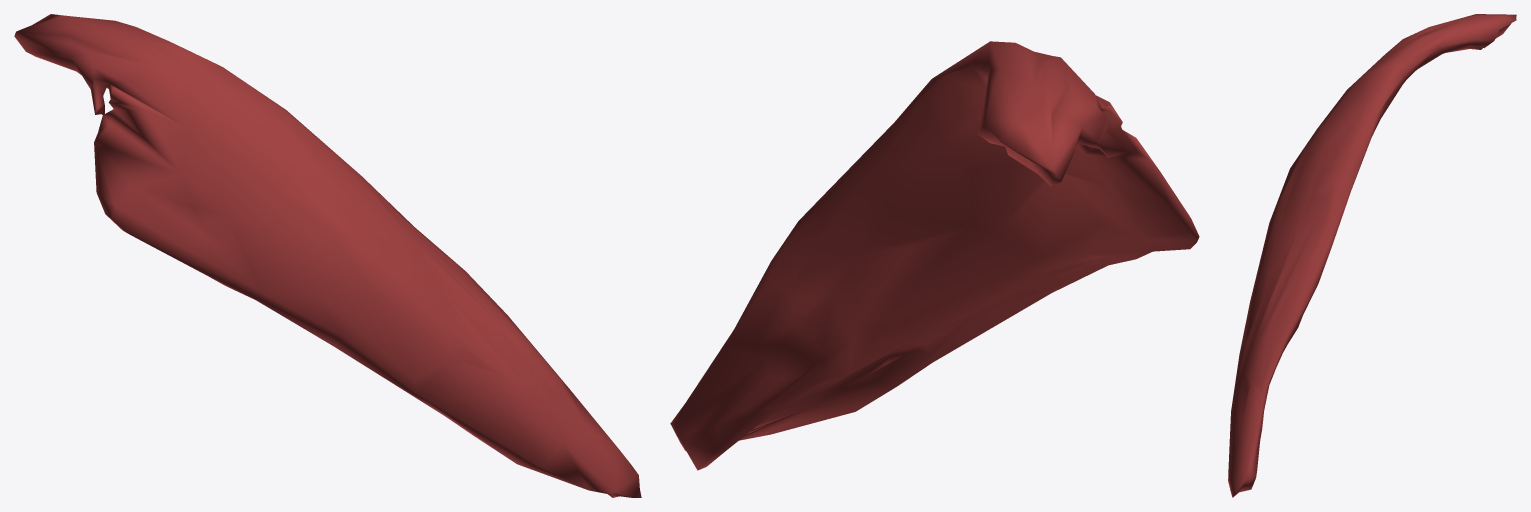
The model's file is abductor-pollicis-brevis-l.glb.
3 renders of one model, left to right at view 1: azimuth 30°, elevation 25°; view 2: azimuth 150°, elevation 25°; view 3: azimuth 270°, elevation 25°, orthographic. The views are drawn at different scales.
Parts seen in each view (by area): view 1: Abductor pollicis brevis.l; view 2: Abductor pollicis brevis.l; view 3: Abductor pollicis brevis.l.
Part boxes in pixels (x1,y1,x2,y2): Abductor pollicis brevis.l: [14, 14, 641, 497]; Abductor pollicis brevis.l: [670, 41, 1199, 470]; Abductor pollicis brevis.l: [1228, 14, 1516, 497].
Size of the model in its own units: 0.0407 by 0.0395 by 0.0306.
